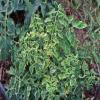Tomato mold leaf: (0, 38, 14, 64), (71, 17, 89, 30), (60, 40, 71, 55), (67, 31, 76, 48), (5, 64, 17, 76), (22, 85, 32, 99), (15, 77, 22, 94), (34, 59, 42, 73), (9, 76, 17, 90), (18, 62, 26, 75), (67, 13, 75, 25), (59, 19, 68, 29), (70, 75, 78, 86), (34, 89, 41, 99), (82, 59, 88, 70), (28, 64, 34, 75), (53, 37, 60, 44), (41, 78, 48, 85), (57, 73, 63, 79), (50, 61, 55, 68), (66, 58, 70, 66)
